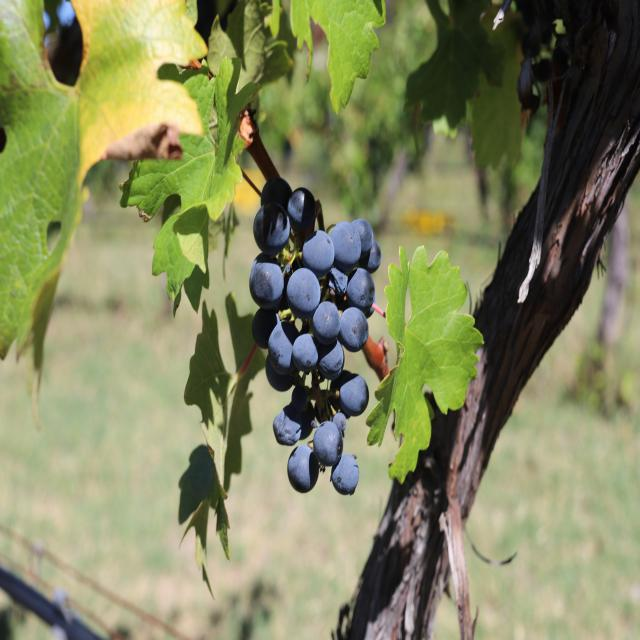grapes: (250, 176, 381, 494)
stem: (241, 107, 279, 182)
